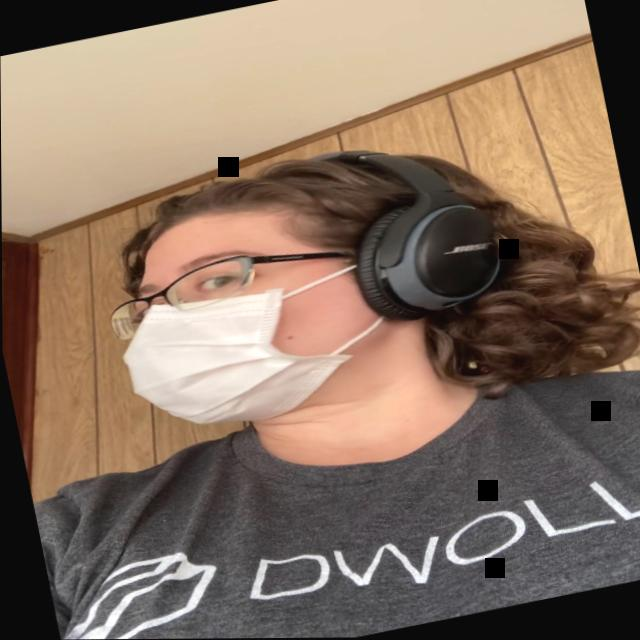Mask: (97, 190, 381, 446)
